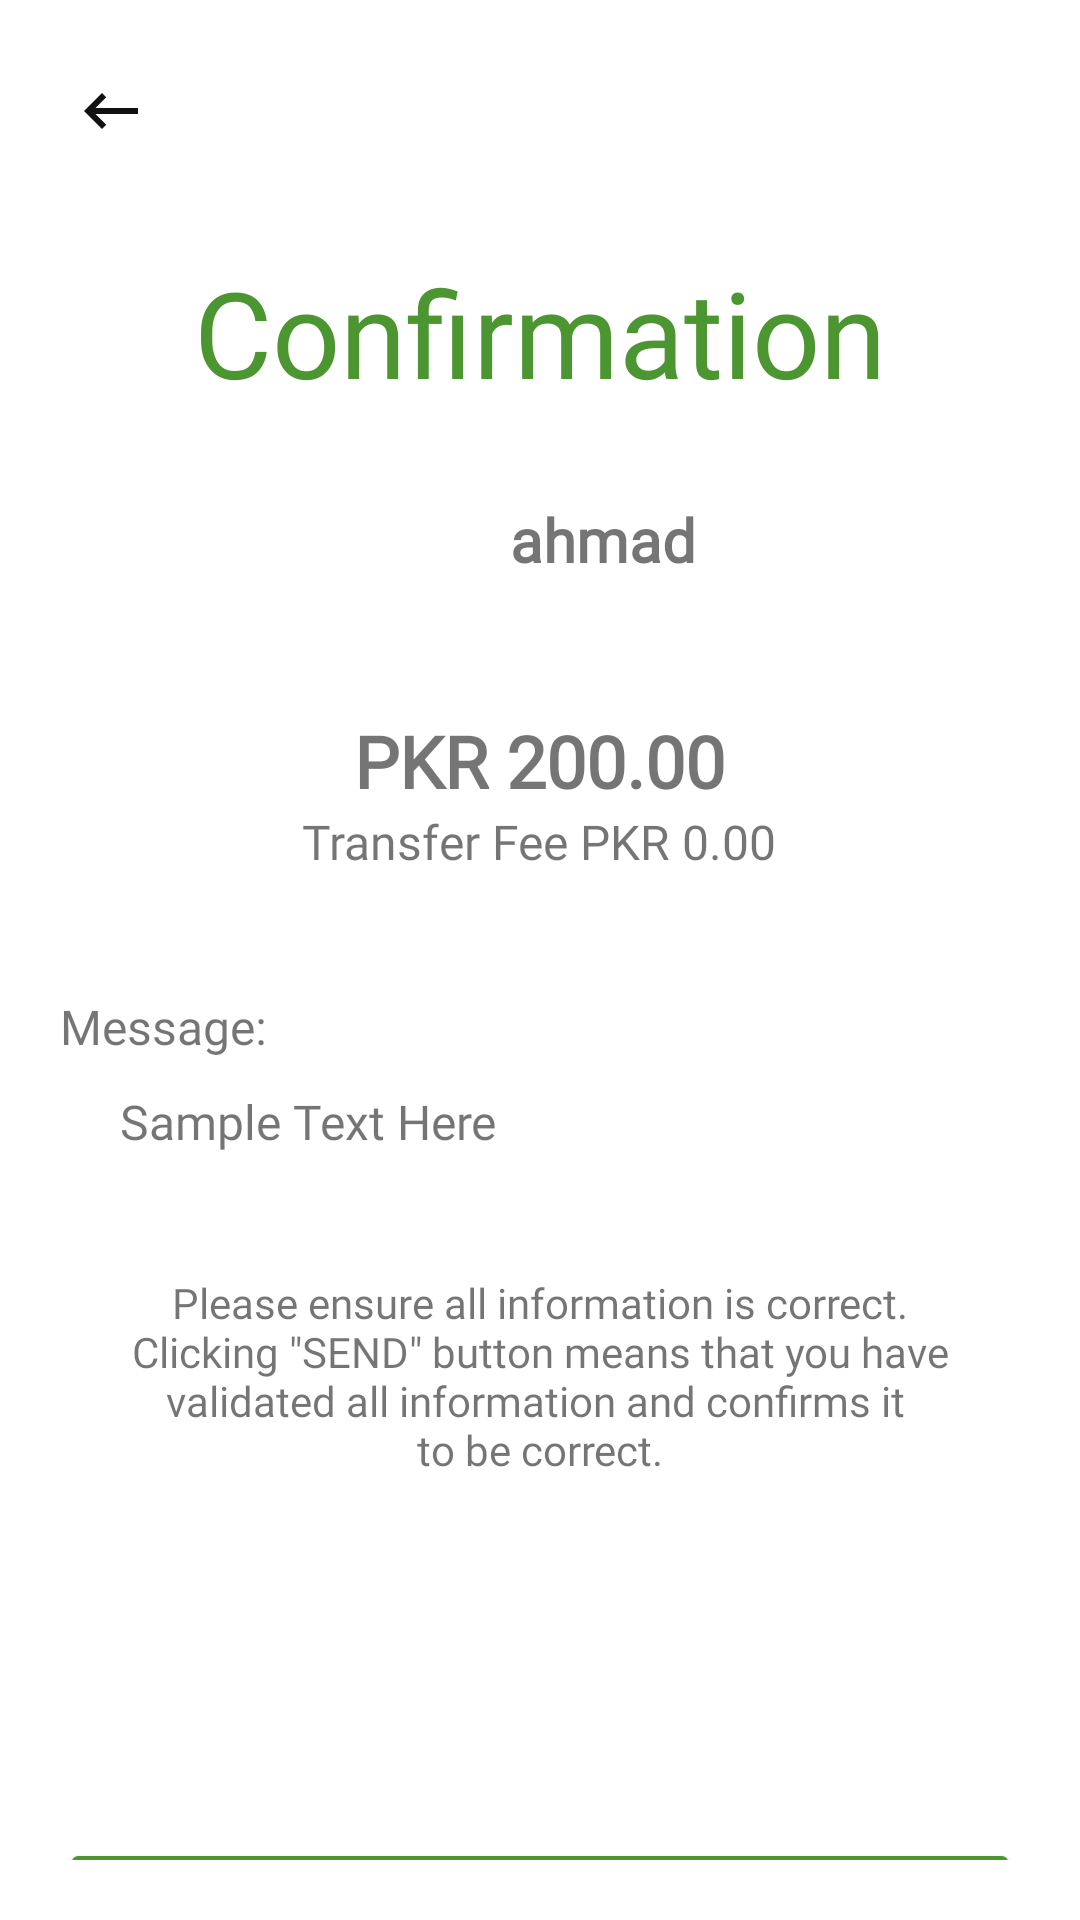

Locate icon controls on the screen. Image size 1080*1920, boxes as (x1, y1, x2, y2).
back: (84, 93, 138, 129)
